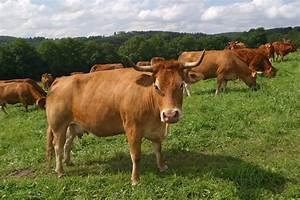cow: (44, 52, 205, 187), (0, 77, 46, 115)
